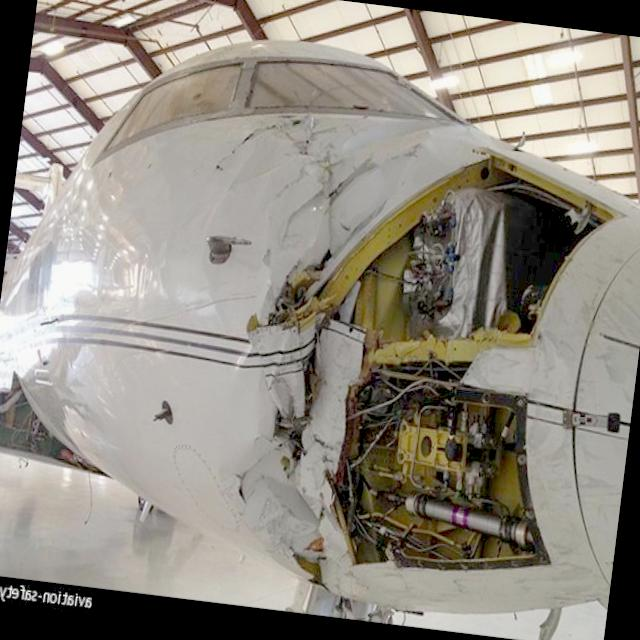crack: (216, 114, 288, 178), (232, 442, 276, 509)
